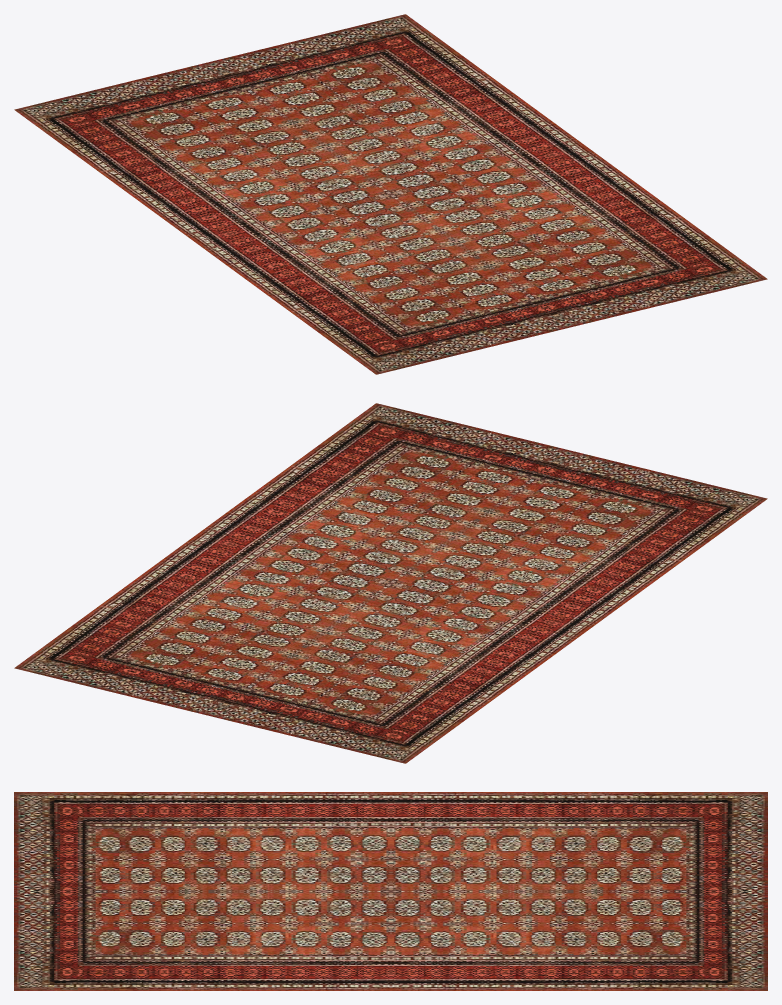
File: frn_all_rug_rectangle_sm_s03.fbx
3 views of the same model, one above another, from view 1: azimuth 30°, elevation 25°; view 2: azimuth 150°, elevation 25°; view 3: azimuth 270°, elevation 25° (orthographic). The views are drawn at different scales.
Visible parts, largest first — view 1: mesh_node; view 2: mesh_node; view 3: mesh_node.
Boxes of the visible parts, x1,y1,x2,y2 form: mesh_node: (14,14,767,374); mesh_node: (14,403,767,763); mesh_node: (14,792,767,990).
Bounding box in the file's own units: 2.47 × 0 × 3.95.
